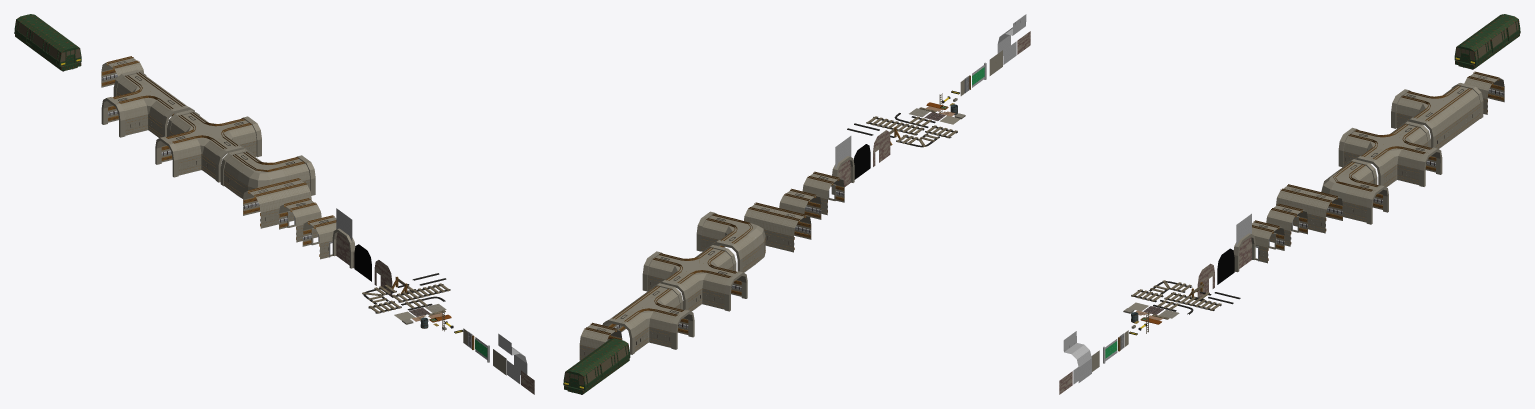
The model's file is SubwayTrack.fbx.
The picture shows the model from 3 angles, left to right: view 1: azimuth 30°, elevation 25°; view 2: azimuth 150°, elevation 25°; view 3: azimuth 330°, elevation 25°; orthographic projection. The views are drawn at different scales.
Visible parts, largest first — view 1: tunle 4 way exit, tunle 3 way exit, tunnel corner piece, train, tunnel long, tunnel Door wa y 1, tunnel Doorway 2, tunnel small, tunnel void, track long.002; view 2: tunle 4 way exit, tunle 3 way exit, tunnel corner piece, tunnel long, train, tunnel Doorway 2, tunnel Door wa y 1, tunnel small, tunnel void, track long.002, tunnel end bricks doorway, subway wall cerved; view 3: tunle 4 way exit, tunle 3 way exit, tunnel corner piece, train, tunnel long, tunnel Door wa y 1, tunnel Doorway 2, tunnel small, subway wall cerved, tunnel void, track long.002.
Part boxes in pixels (x1,y1,x2,y2): tunle 4 way exit: (155,110,261,182); tunle 3 way exit: (101,70,194,137); tunnel corner piece: (220,149,315,198); train: (14,14,81,71); tunnel long: (243,178,311,228); tunnel Door wa y 1: (279,198,321,242); tunnel Doorway 2: (302,215,336,259); tunnel small: (101,56,143,87); tunnel void: (354,244,371,281); track long.002: (391,283,450,302); tunle 4 way exit: (642,245,747,311); tunle 3 way exit: (602,283,694,354); tunnel corner piece: (696,211,765,272); tunnel long: (744,202,811,252); train: (563,338,630,394); tunnel Doorway 2: (802,171,844,215); tunnel Door wa y 1: (779,188,821,219); tunnel small: (579,322,622,360); tunnel void: (853,144,870,179); track long.002: (866,116,924,135); tunnel end bricks doorway: (873,130,890,166); subway wall cerved: (997,14,1026,55); tunle 4 way exit: (1338,121,1442,187); tunle 3 way exit: (1391,83,1483,148); tunnel corner piece: (1321,159,1388,224); train: (1454,14,1520,69); tunnel long: (1276,184,1342,233); tunnel Door wa y 1: (1266,203,1307,246); tunnel Doorway 2: (1252,220,1284,263); tunnel small: (1464,71,1504,114); subway wall cerved: (1063,331,1091,382); tunnel void: (1217,248,1234,284); track long.002: (1164,292,1221,310).
Bounding box in the file's own units: 2006 × 1121 × 18050.
